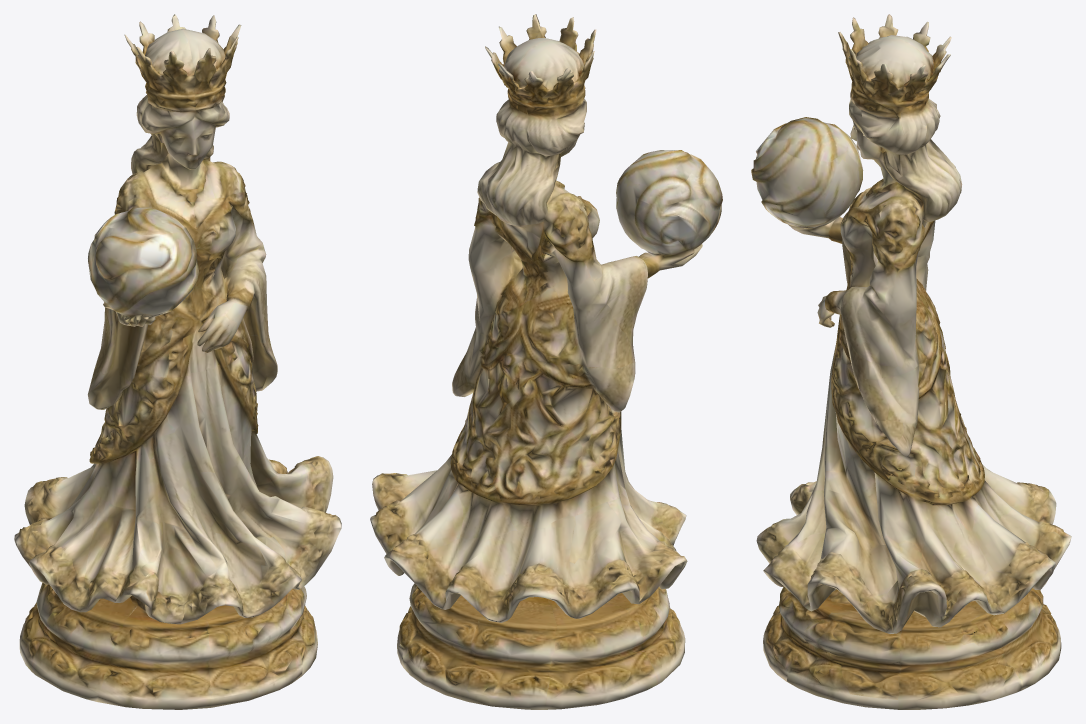
File: queen.glb
3 views of the same model, side by side, from view 1: azimuth 30°, elevation 25°; view 2: azimuth 150°, elevation 25°; view 3: azimuth 270°, elevation 25° (orthographic). The views are drawn at different scales.
Size of the model in its own units: 0.9676 by 1.9 by 0.8905.
Materials: 1 (1 with a texture image).
